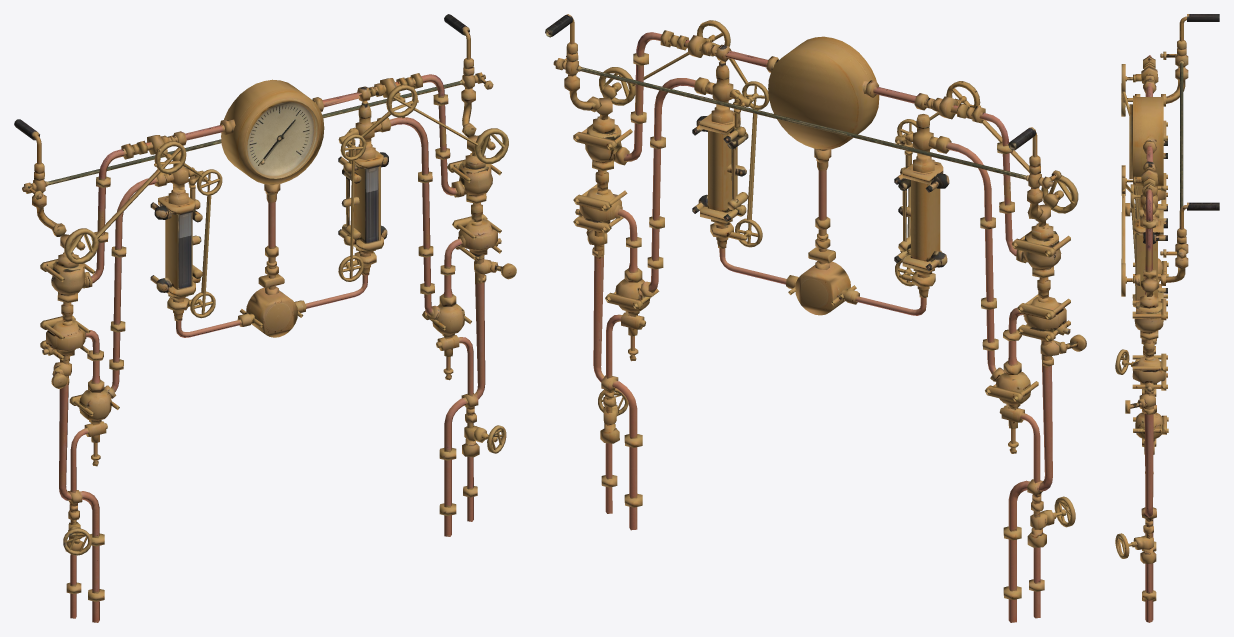
Rendered from loco-backhead.glb.
3 views of the same model, side by side, from view 1: azimuth 30°, elevation 25°; view 2: azimuth 150°, elevation 25°; view 3: azimuth 270°, elevation 25° (orthographic). The views are drawn at different scales.
Visible parts, largest first — view 1: SM_BT_LocoBackhead; view 2: SM_BT_LocoBackhead; view 3: SM_BT_LocoBackhead.
Part boxes in pixels (x1,y1,x2,y2): SM_BT_LocoBackhead: (14, 14, 516, 622); SM_BT_LocoBackhead: (545, 14, 1086, 622); SM_BT_LocoBackhead: (1115, 14, 1219, 622).
Bounding box in the file's own units: 1.9 × 1.93 × 0.4117.
1 material, 1 textured.
